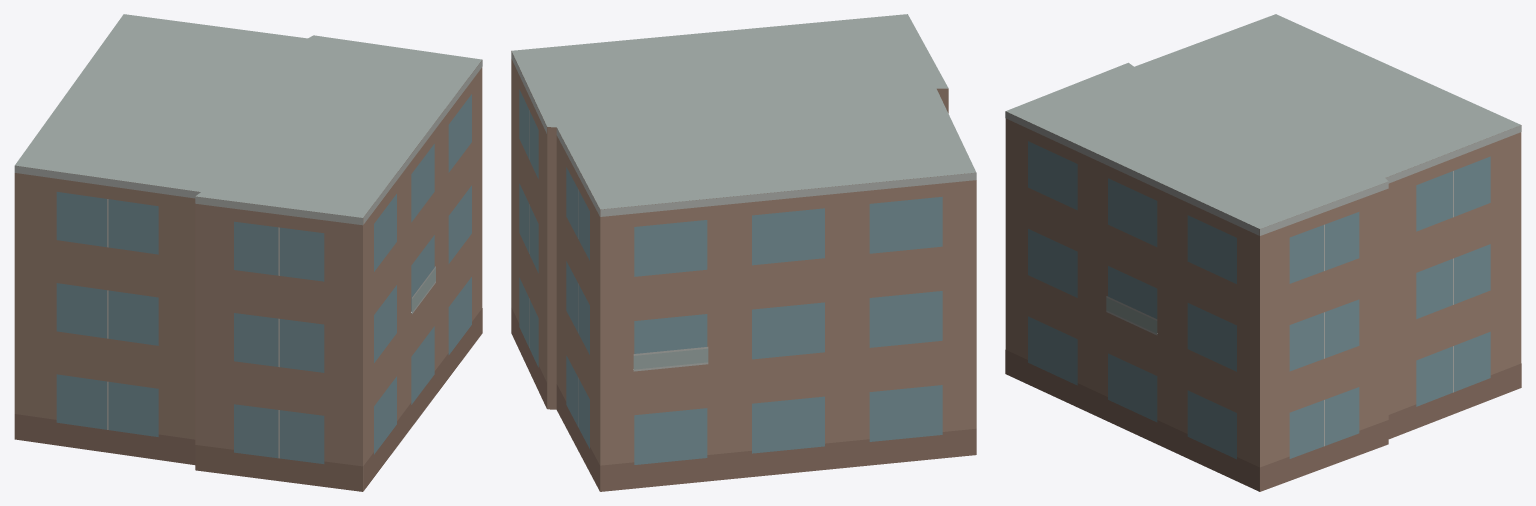
The model's file is survey-upis-32975325.glb.
3 views of the same model, side by side, from view 1: azimuth 30°, elevation 25°; view 2: azimuth 150°, elevation 25°; view 3: azimuth 270°, elevation 25° (orthographic). The views are drawn at different scales.
Parts seen in each view (by area): view 1: survey-upis-32975325.tmp; view 2: survey-upis-32975325.tmp; view 3: survey-upis-32975325.tmp.
Boxes of the visible parts, bbox=[...] form: survey-upis-32975325.tmp: bbox=[14, 14, 482, 491]; survey-upis-32975325.tmp: bbox=[511, 14, 976, 491]; survey-upis-32975325.tmp: bbox=[1005, 14, 1521, 491].
Bounding box in the file's own units: 16.07 × 9.15 × 16.29.
